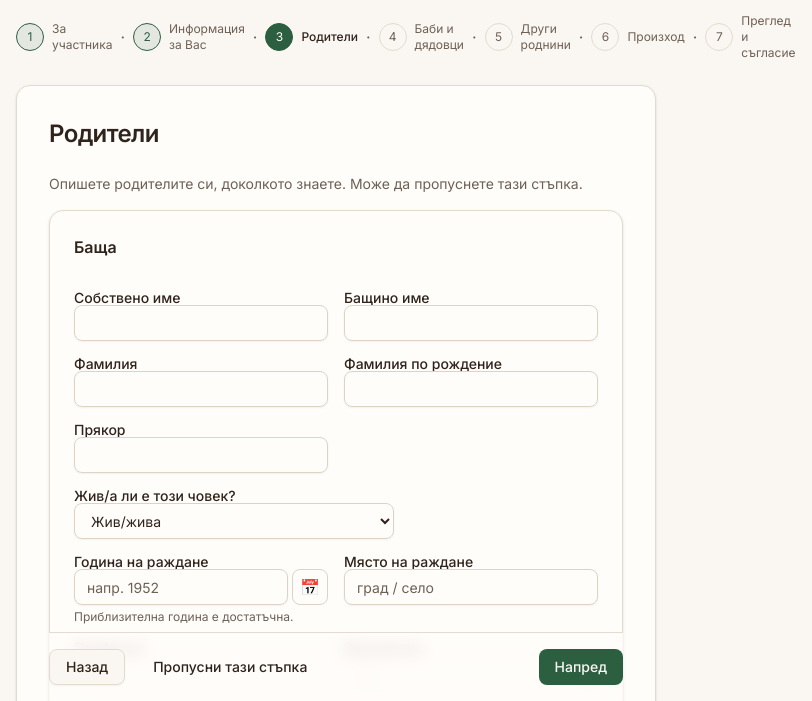
Scenario: conditional death fields (relatives) › shows the death year only after marking the person deceased
The image size is (812, 701).
expect the field labelled "Година на смърт" is not shown: met
Select "Починал/починала" in the dropdown labelled "Жив/а ли е този човек?" at point(234, 521), box [74,503,394,539]
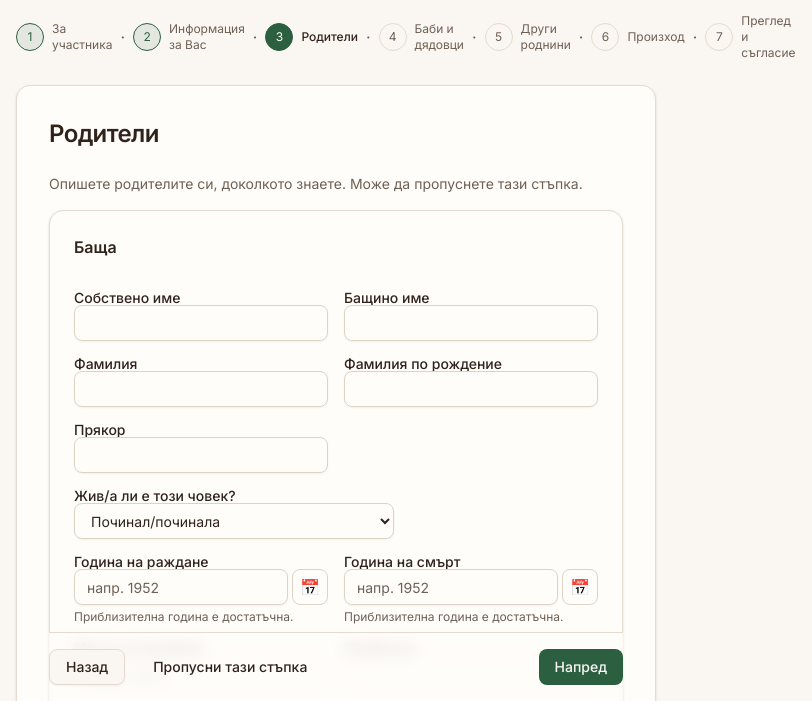
expect the number of number fields labelled "Година на смърт" is 1: met, box [344,569,558,605]
